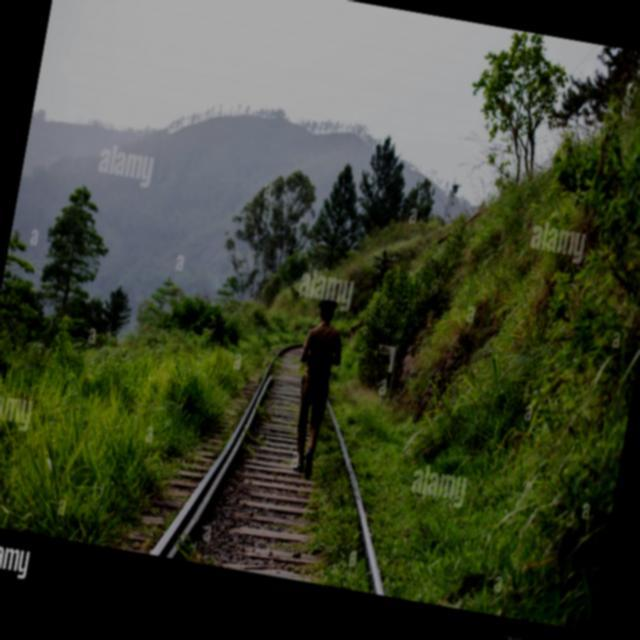danger: (291, 294, 349, 474)
rail: (120, 329, 415, 602)
